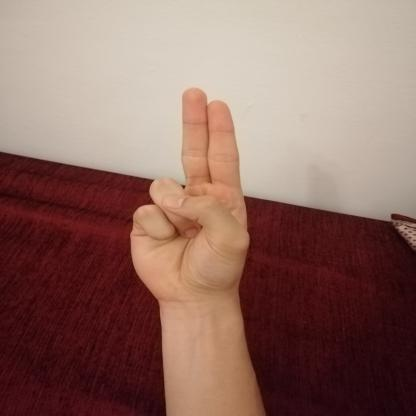TA: (109, 75, 268, 317)
